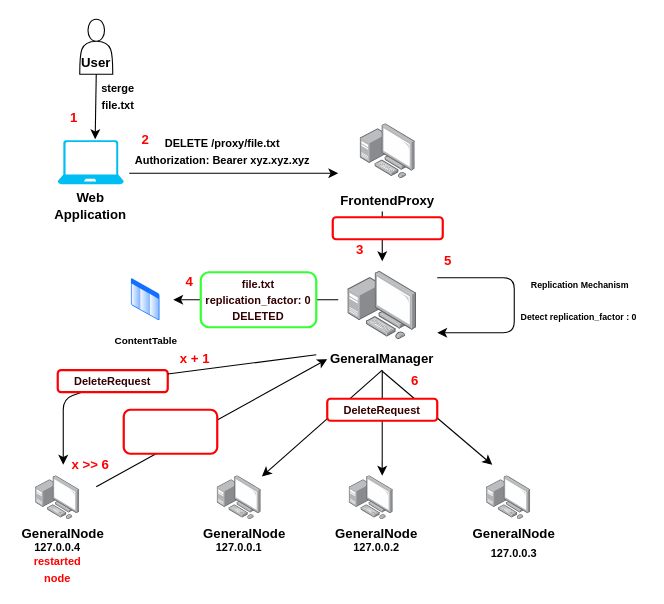
Some shapes in this 664 by 604 pixel diagram are drawn without their labels. Here are the shapes that lost their labels. From the top down, the centre of each, then its label:
pixel 387 228: DeleteFileRequest
pixel 170 431: NodeBeat file.txt
